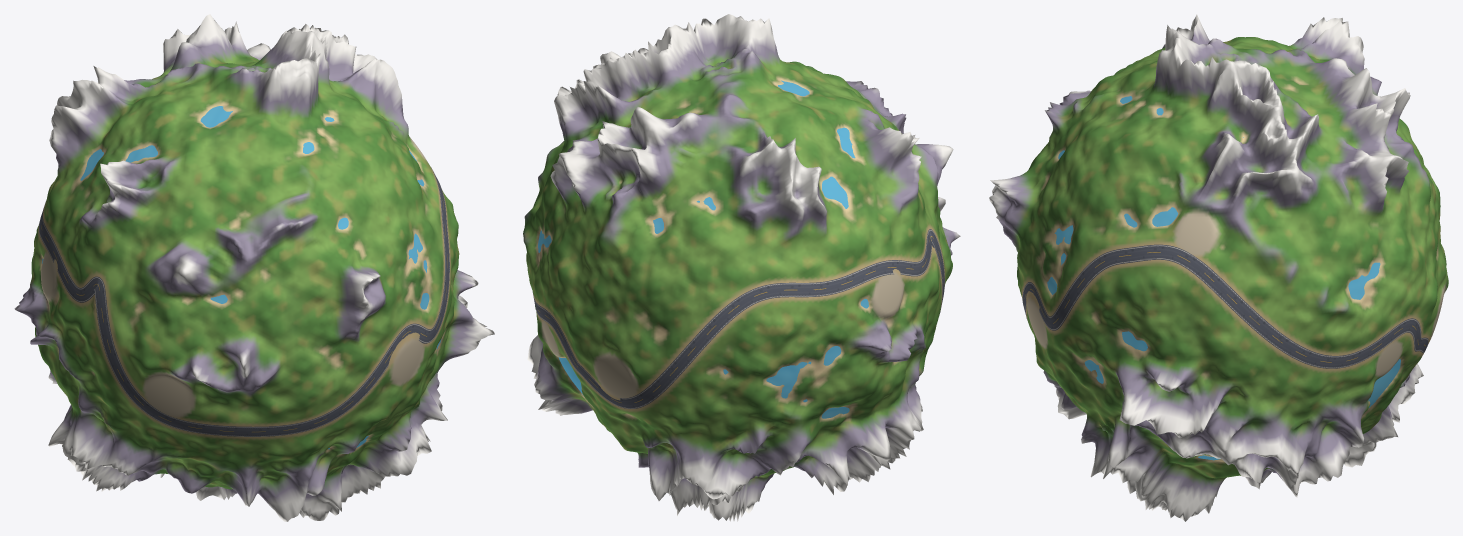
Rendered from world-reference.glb.
3 views of the same model, side by side, from view 1: azimuth 30°, elevation 25°; view 2: azimuth 150°, elevation 25°; view 3: azimuth 270°, elevation 25° (orthographic). The views are drawn at different scales.
Visible parts, largest first — view 1: world-reference; view 2: world-reference; view 3: world-reference.
Part boxes in pixels (left/top/right/bottom): world-reference: left=14, top=14, right=494, bottom=521; world-reference: left=523, top=14, right=960, bottom=521; world-reference: left=989, top=14, right=1448, bottom=521.
Size of the model in its own units: 178 by 194 by 174.
3 materials, 1 textured.
